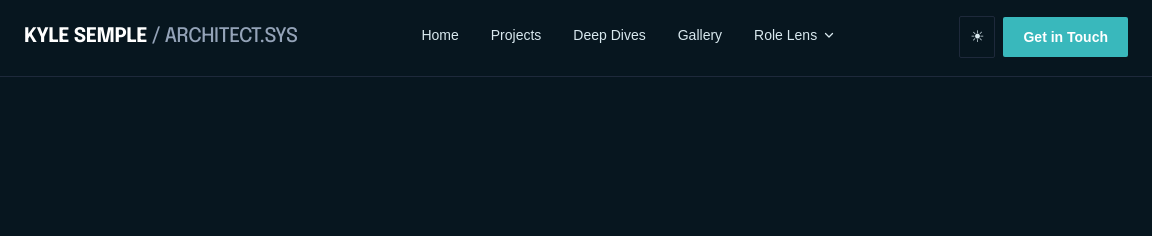
TopNav active states › marks Forward Deployed Engineer active on its track
The image size is (1152, 236).
# Open the dropdown
What coordinates should you click on to do the following:
click the button "Role Lens"
I would click on:
 (795, 36)
Its box is left=754, top=24, right=835, bottom=48.
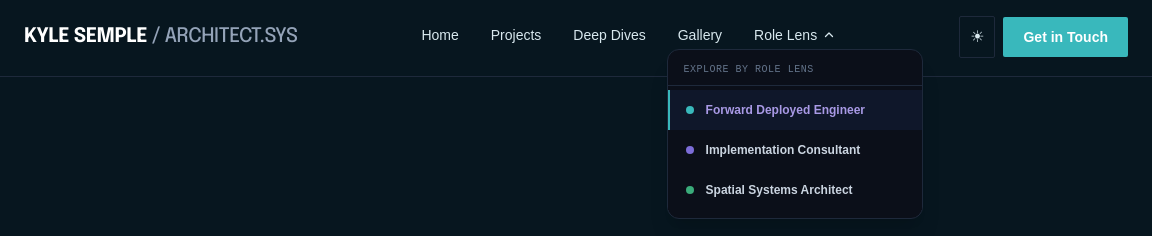
Result: the menu item "Forward Deployed Engineer" is shown at left=668, top=90, right=922, bottom=130
